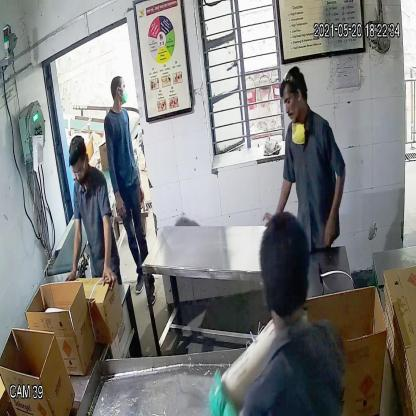goggles: (70, 161, 88, 179)
no_goggles: (280, 90, 304, 110)
